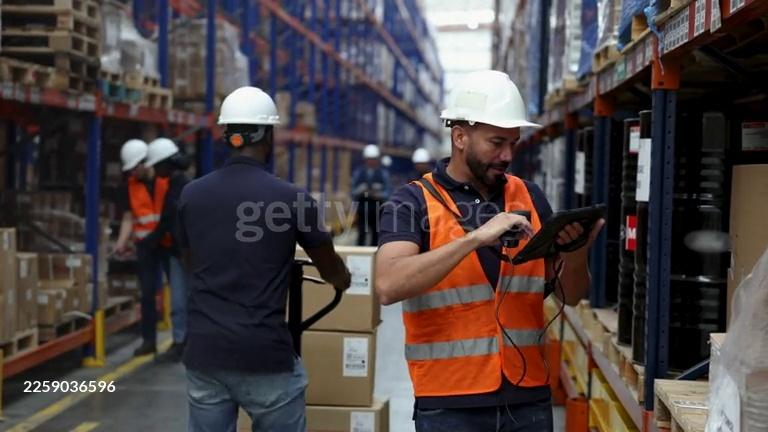helmet: (443, 70, 542, 130), (216, 86, 280, 127), (143, 138, 179, 165), (121, 140, 149, 172), (414, 149, 430, 162), (365, 145, 379, 157)
person: (375, 72, 607, 432), (173, 86, 355, 432), (129, 139, 196, 364), (109, 138, 173, 357), (350, 145, 392, 246), (400, 149, 432, 185)
